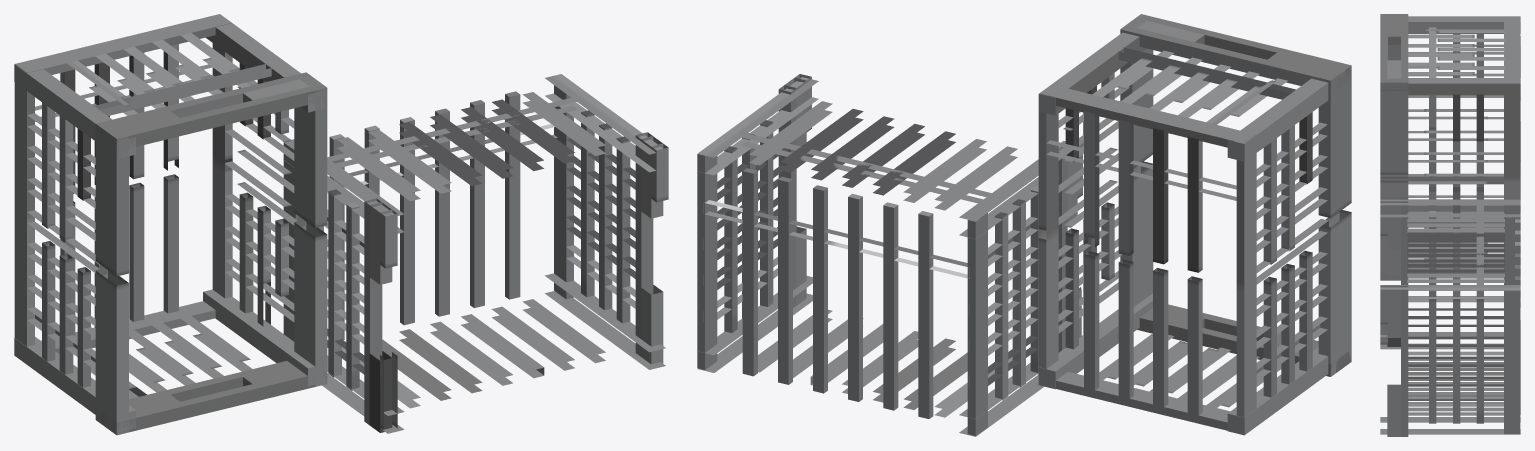
The picture shows the model from 3 angles, left to right: view 1: azimuth 30°, elevation 25°; view 2: azimuth 150°, elevation 25°; view 3: azimuth 270°, elevation 25°; orthographic projection. The views are drawn at different scales.
Bounding box in the file's own units: 0.912 × 0.574 × 0.3.
